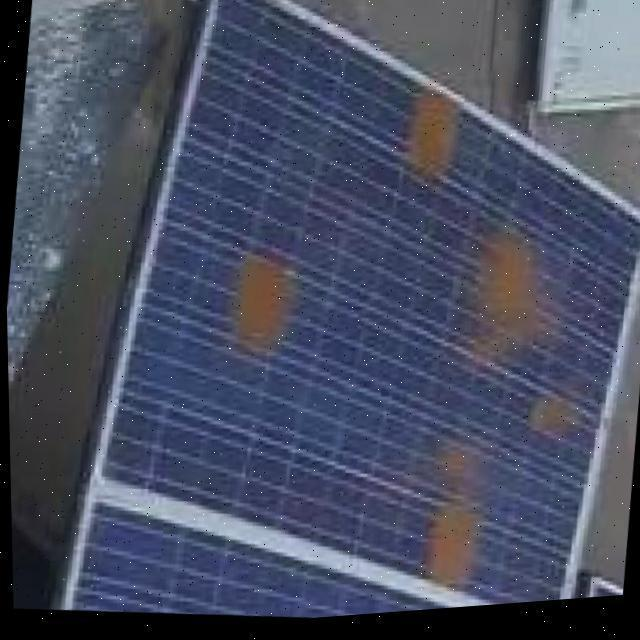Anomaly Solar Panel: (49, 0, 640, 612)
Surface Contaminant: (427, 224, 571, 381), (414, 437, 505, 599), (231, 249, 300, 357), (402, 89, 471, 184), (519, 386, 593, 450)
